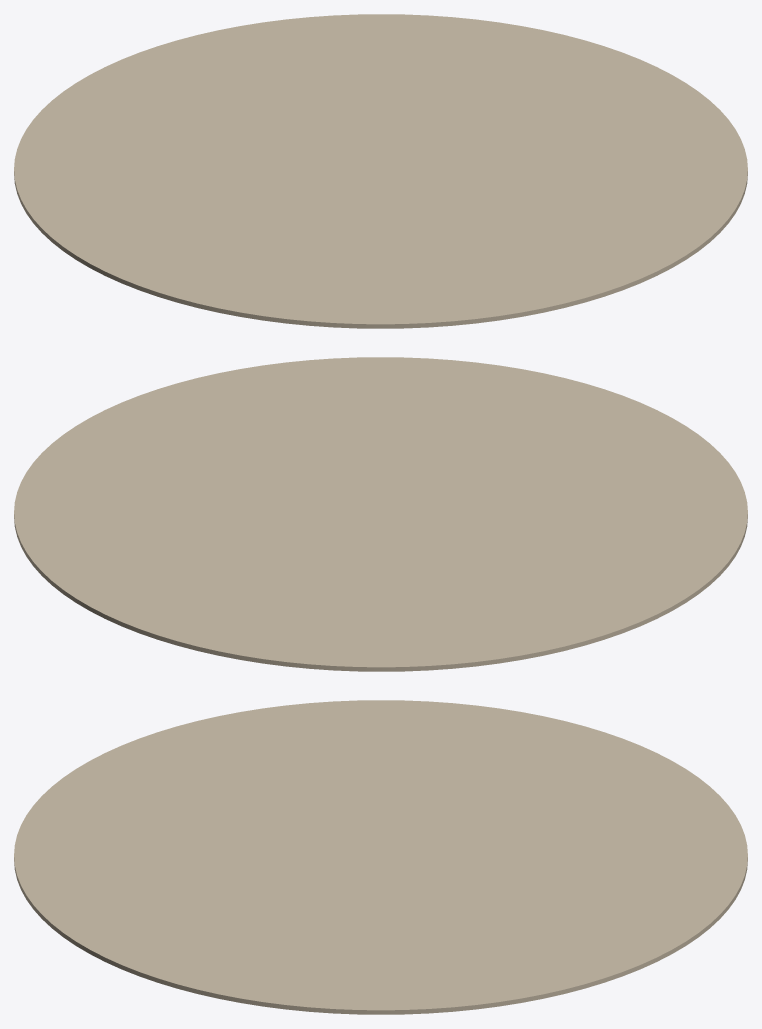
Rendered from rug-3.glb.
The picture shows the model from 3 angles, top to bottom: view 1: azimuth 30°, elevation 25°; view 2: azimuth 150°, elevation 25°; view 3: azimuth 270°, elevation 25°; orthographic projection.
Parts seen in each view (by area): view 1: rug:3:archviz; view 2: rug:3:archviz; view 3: rug:3:archviz.
Boxes of the visible parts, left/top/right/bottom form: rug:3:archviz: left=14, top=14, right=747, bottom=328; rug:3:archviz: left=14, top=357, right=747, bottom=671; rug:3:archviz: left=14, top=700, right=747, bottom=1014.
Bounding box in the file's own units: 1.8 × 0.0121 × 1.8.
